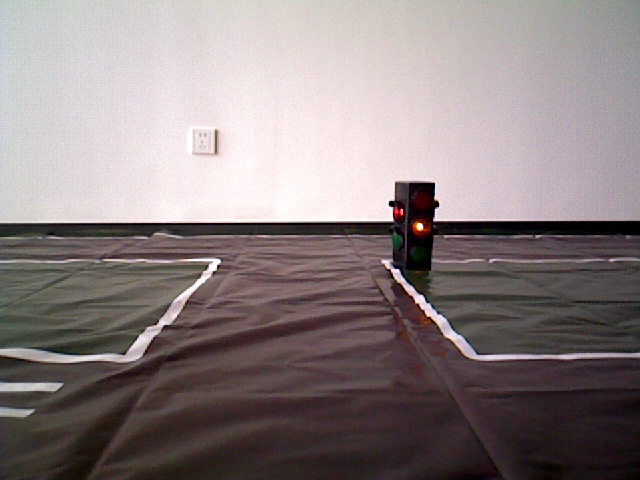yellow: (392, 180, 433, 273)
